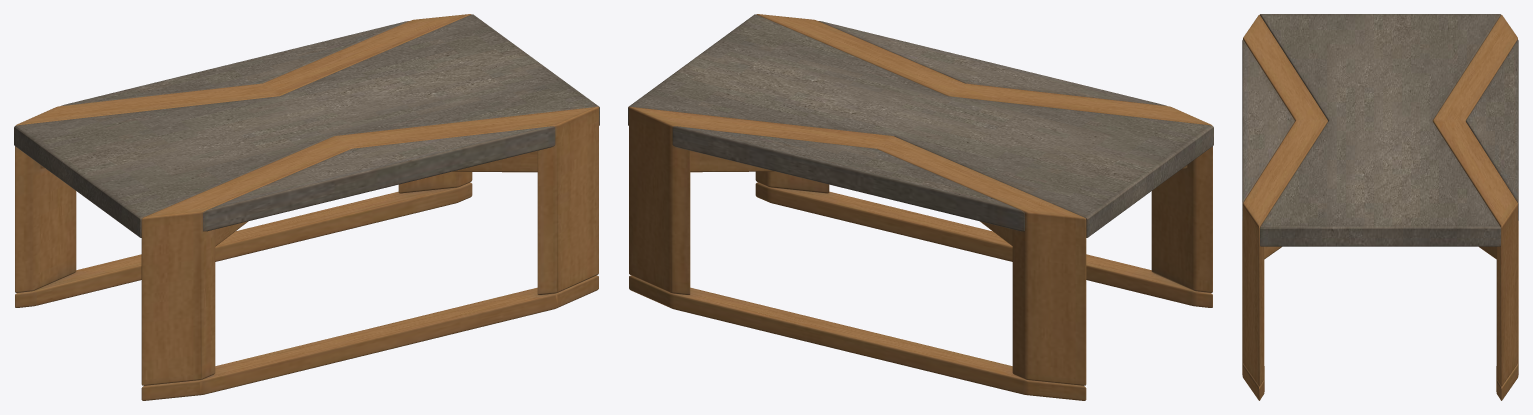
The model's file is coffee-table.glb.
The picture shows the model from 3 angles, left to right: view 1: azimuth 30°, elevation 25°; view 2: azimuth 150°, elevation 25°; view 3: azimuth 270°, elevation 25°; orthographic projection. The views are drawn at different scales.
Parts seen in each view (by area): view 1: modern_coffee_table_01; view 2: modern_coffee_table_01; view 3: modern_coffee_table_01.
Boxes of the visible parts, x1,y1,x2,y2 form: modern_coffee_table_01: (14,14,599,400); modern_coffee_table_01: (628,14,1213,400); modern_coffee_table_01: (1242,14,1518,400).
Size of the model in its own units: 1.1 by 0.42 by 0.6.
1 material, 1 textured.
